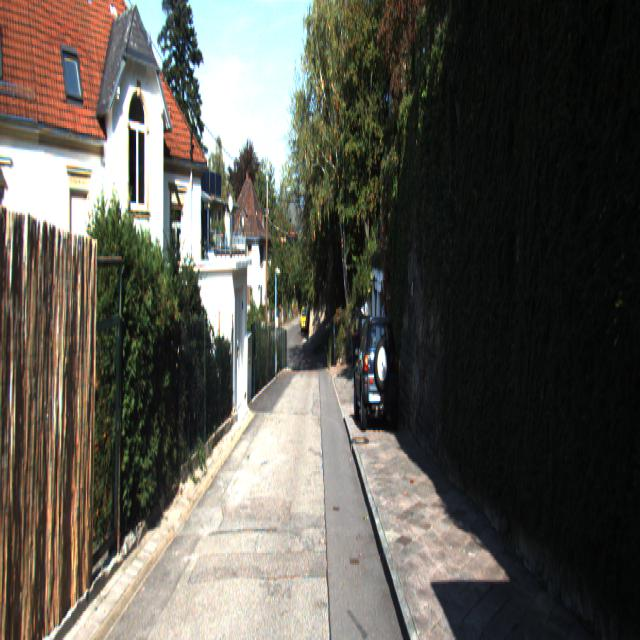Car: (352, 312, 401, 434)
